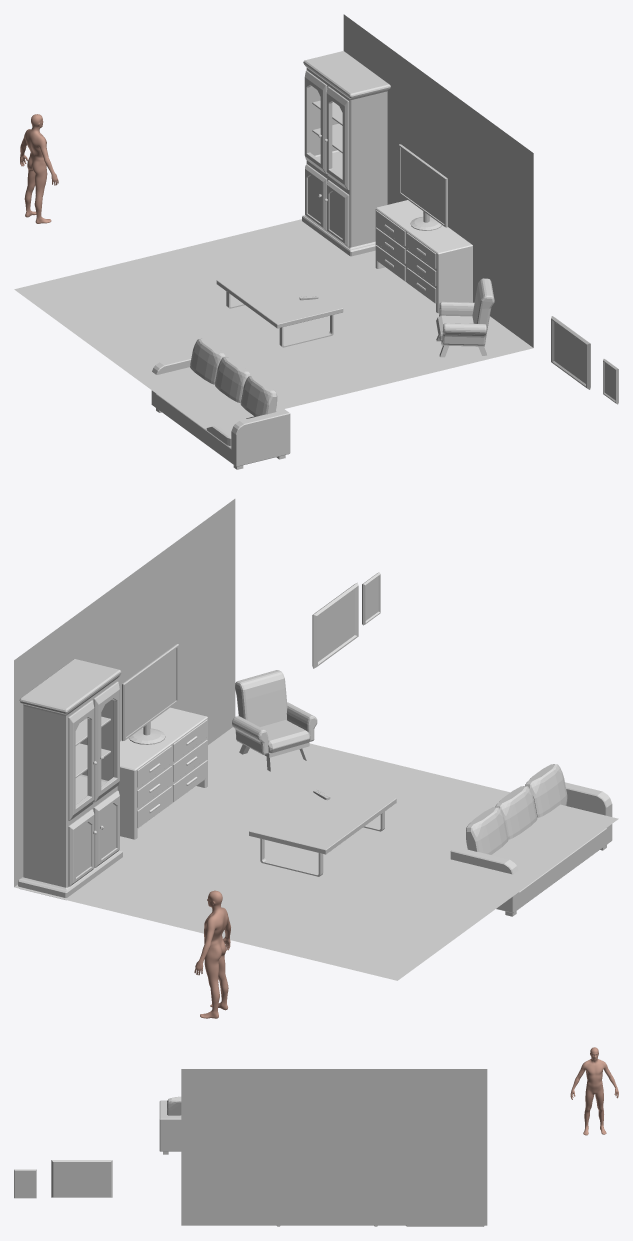
File: Couch.fbx
3 views of the same model, one above another, from view 1: azimuth 30°, elevation 25°; view 2: azimuth 150°, elevation 25°; view 3: azimuth 270°, elevation 25° (orthographic). The views are drawn at different scales.
Visible parts, largest first — view 1: Cube.009, Cube.012, Cube.019, Cube.007, Cube, Cube.036, Cube.004, HumanBody:humanBody, Cube.030, Cube.016, Cube.062, Cube.022 (+4 smaller); view 2: Cube.009, Cube.012, Cube.007, Cube.036, Cube.019, Cube, Cube.004, HumanBody:humanBody, Cube.030, Cube.062, Cube.016, Cube.013 (+5 smaller); view 3: Cube.009, Cube.030, HumanBody:humanBody, Cube.019, Cube.031, Cube.020.
Part boxes in pixels (box(x1,y1,x2,y2)): Cube.009: box(14, 14, 533, 428); Cube.012: box(302, 51, 390, 256); Cube.019: box(151, 354, 290, 469); Cube.007: box(216, 264, 343, 328); Cube: box(375, 200, 472, 313); Cube.036: box(436, 278, 494, 357); Cube.004: box(399, 144, 447, 227); HumanBody:humanBody: box(20, 114, 58, 223); Cube.030: box(551, 316, 590, 389); Cube.016: box(324, 86, 349, 190); Cube.062: box(304, 70, 327, 174); Cube.022: box(324, 180, 349, 246); Cube.009: box(14, 499, 618, 980); Cube.012: box(18, 659, 122, 899); Cube.007: box(249, 779, 396, 854); Cube.036: box(232, 670, 317, 771); Cube.019: box(450, 782, 612, 916); Cube: box(117, 707, 207, 839); Cube.004: box(122, 644, 178, 740); HumanBody:humanBody: box(194, 890, 230, 1018); Cube.030: box(312, 582, 358, 668); Cube.062: box(68, 700, 96, 820); Cube.016: box(93, 681, 119, 802); Cube.013: box(68, 809, 96, 886); Cube.009: box(181, 1069, 487, 1225); Cube.030: box(51, 1160, 112, 1197); HumanBody:humanBody: box(570, 1047, 618, 1135); Cube.019: box(159, 1100, 181, 1154); Cube.031: box(14, 1169, 36, 1198); Cube.020: box(167, 1096, 181, 1115).
Bounding box in the file's own units: 601 × 406 × 1188.
